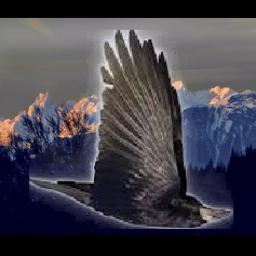Crow: (28, 30, 232, 229)
